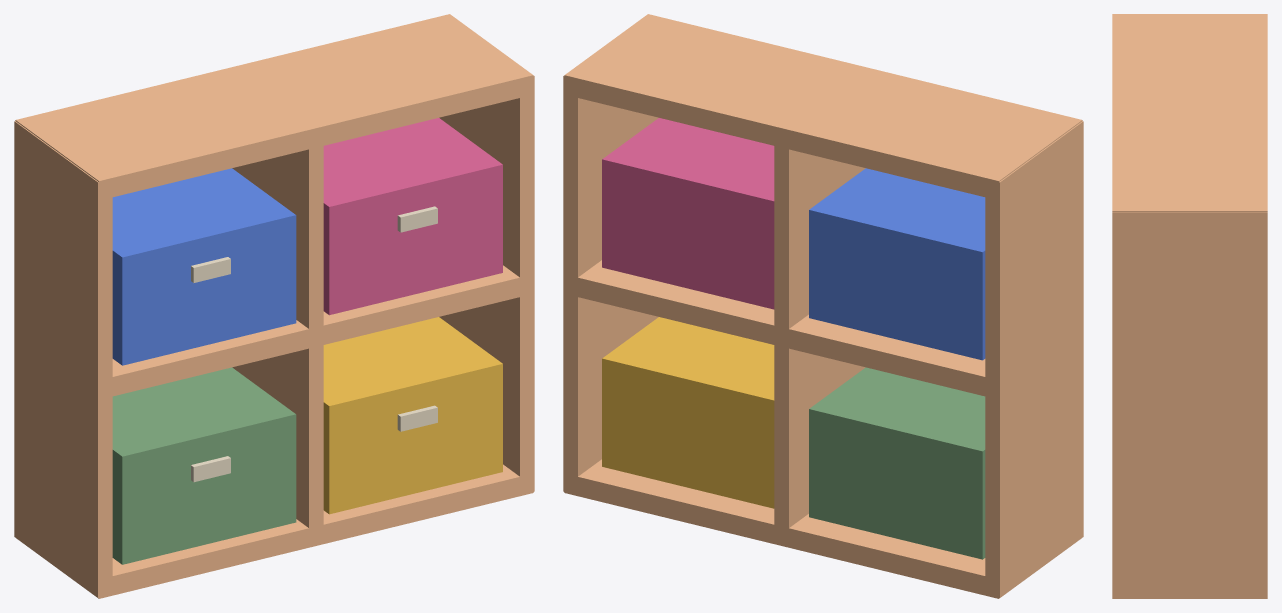
3 views of the same model, side by side, from view 1: azimuth 30°, elevation 25°; view 2: azimuth 150°, elevation 25°; view 3: azimuth 270°, elevation 25° (orthographic). The views are drawn at different scales.
Visible parts, largest first — view 1: Cubbies shelf.002, Cubbies divider, Storage bin, Storage bin.002, Storage bin.003, Storage bin.001, Cubbies divider.002, Cubbies divider.001, Cubbies shelf, Cubbies shelf.001, Bin handle.001, Bin handle.003 (+2 smaller); view 2: Cubbies shelf.002, Cubbies divider, Storage bin.002, Storage bin, Storage bin.003, Storage bin.001, Cubbies divider.002, Cubbies divider.001, Cubbies shelf, Cubbies shelf.001; view 3: Cubbies divider.002, Cubbies shelf.002.
Boxes of the visible parts, x1=… form: Cubbies shelf.002: x1=15, y1=14, x2=533, y2=198; Cubbies divider: x1=14, y1=121, x2=112, y2=597; Storage bin: x1=112, y1=367, x2=296, y2=564; Storage bin.002: x1=112, y1=168, x2=296, y2=365; Storage bin.003: x1=323, y1=118, x2=502, y2=315; Storage bin.001: x1=323, y1=317, x2=502, y2=514; Cubbies divider.002: x1=439, y1=76, x2=534, y2=494; Cubbies divider.001: x1=232, y1=127, x2=323, y2=545; Cubbies shelf: x1=98, y1=464, x2=533, y2=598; Cubbies shelf.001: x1=100, y1=265, x2=533, y2=396; Bin handle.001: x1=397, y1=405, x2=437, y2=431; Bin handle.003: x1=397, y1=206, x2=437, y2=232; Cubbies shelf.002: x1=564, y1=14, x2=1082, y2=199; Cubbies divider: x1=985, y1=121, x2=1083, y2=597; Storage bin.002: x1=809, y1=168, x2=985, y2=360; Storage bin: x1=809, y1=367, x2=985, y2=559; Storage bin.003: x1=602, y1=118, x2=774, y2=309; Storage bin.001: x1=602, y1=317, x2=774, y2=508; Cubbies divider.002: x1=563, y1=76, x2=658, y2=494; Cubbies divider.001: x1=774, y1=127, x2=865, y2=541; Cubbies shelf: x1=564, y1=459, x2=999, y2=598; Cubbies shelf.001: x1=564, y1=260, x2=998, y2=398; Cubbies divider.002: x1=1112, y1=212, x2=1267, y2=598; Cubbies shelf.002: x1=1112, y1=14, x2=1267, y2=211.
Bounding box in the file's own units: 1.05 × 0.965 × 0.35.
1 material, 1 textured.
